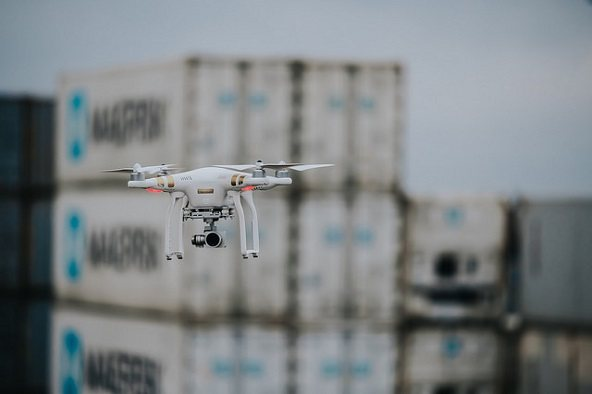drone: (94, 154, 340, 261)
